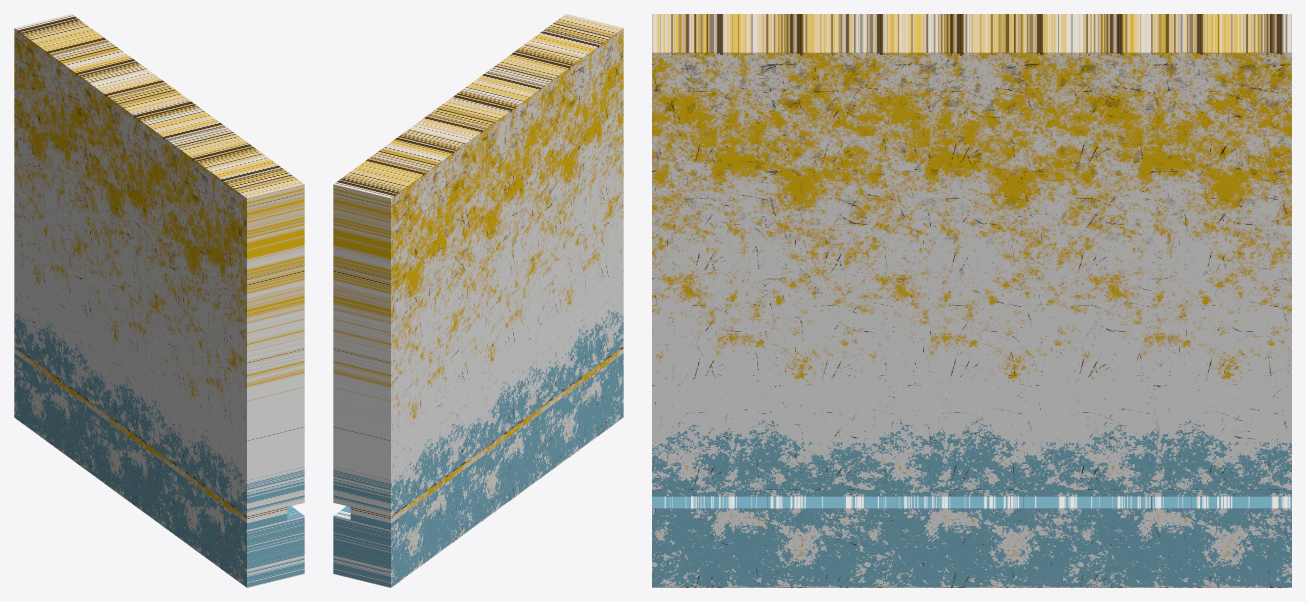
Rendered from Modular_Dungeon_wall_simple.fbx.
3 views of the same model, side by side, from view 1: azimuth 30°, elevation 25°; view 2: azimuth 150°, elevation 25°; view 3: azimuth 270°, elevation 25° (orthographic). The views are drawn at different scales.
Parts seen in each view (by area): view 1: Wand_Basis; view 2: Wand_Basis; view 3: Wand_Basis.
Part boxes in pixels (bbox=[...]): Wand_Basis: bbox=[14, 14, 304, 587]; Wand_Basis: bbox=[333, 14, 623, 587]; Wand_Basis: bbox=[652, 14, 1291, 587].
Bounding box in the file's own units: 40 × 259 × 280.
